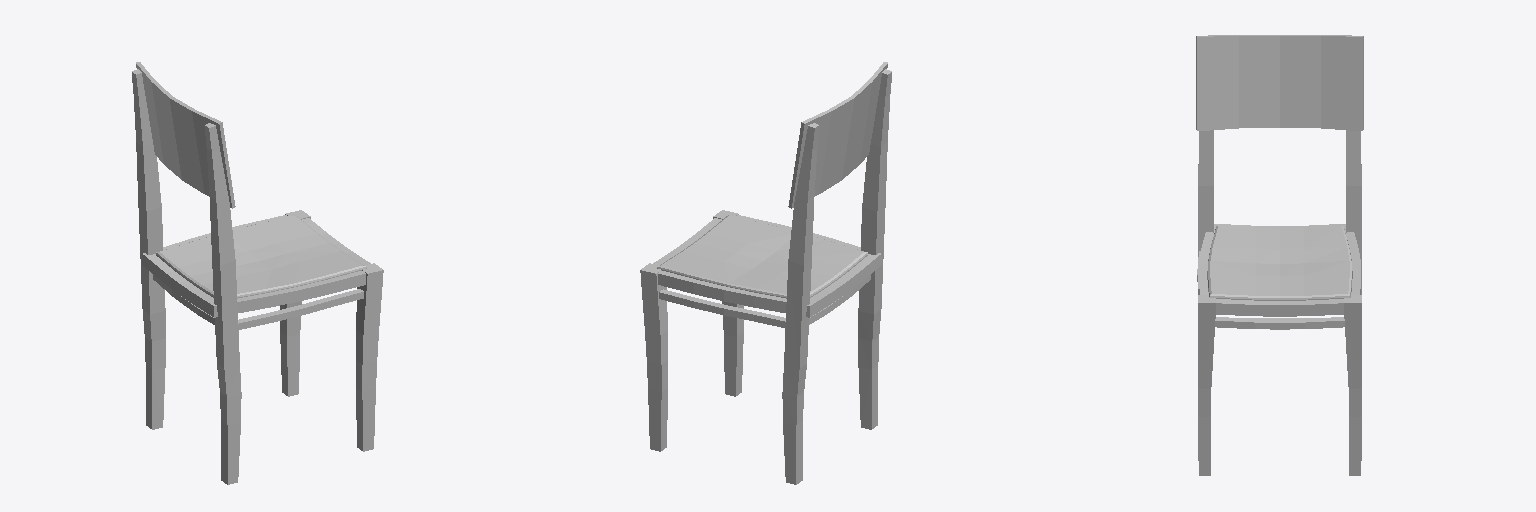
File: chair.obj
3 views of the same model, side by side, from view 1: azimuth 30°, elevation 25°; view 2: azimuth 150°, elevation 25°; view 3: azimuth 270°, elevation 25° (orthographic).
Parts seen in each view (by area): view 1: Chair_lp_Plane.002; view 2: Chair_lp_Plane.002; view 3: Chair_lp_Plane.002.
Part boxes in pixels (x1,y1,x2,y2): Chair_lp_Plane.002: (132,62,383,484); Chair_lp_Plane.002: (640,62,891,484); Chair_lp_Plane.002: (1196,35,1363,475).
Bounding box in the file's own units: 0.1856 × 0.3734 × 0.1552.